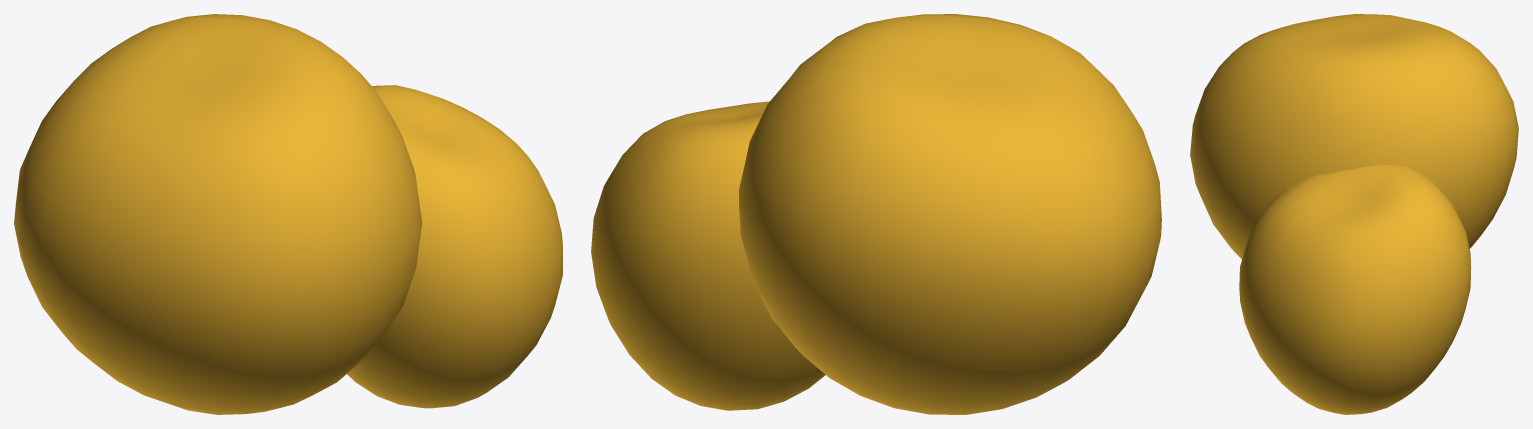
The model's file is Shrub_Top_A_02.fbx.
The picture shows the model from 3 angles, left to right: view 1: azimuth 30°, elevation 25°; view 2: azimuth 150°, elevation 25°; view 3: azimuth 270°, elevation 25°; orthographic projection. The views are drawn at different scales.
Parts seen in each view (by area): view 1: Shrub_Top_A_02_LOD0; view 2: Shrub_Top_A_02_LOD0; view 3: Shrub_Top_A_02_LOD0.
Boxes of the visible parts, x1,y1,x2,y2 form: Shrub_Top_A_02_LOD0: [14, 14, 562, 414]; Shrub_Top_A_02_LOD0: [591, 14, 1161, 414]; Shrub_Top_A_02_LOD0: [1190, 14, 1518, 414].
Size of what is drawn, in the model's own units: 682 by 498 by 495.
